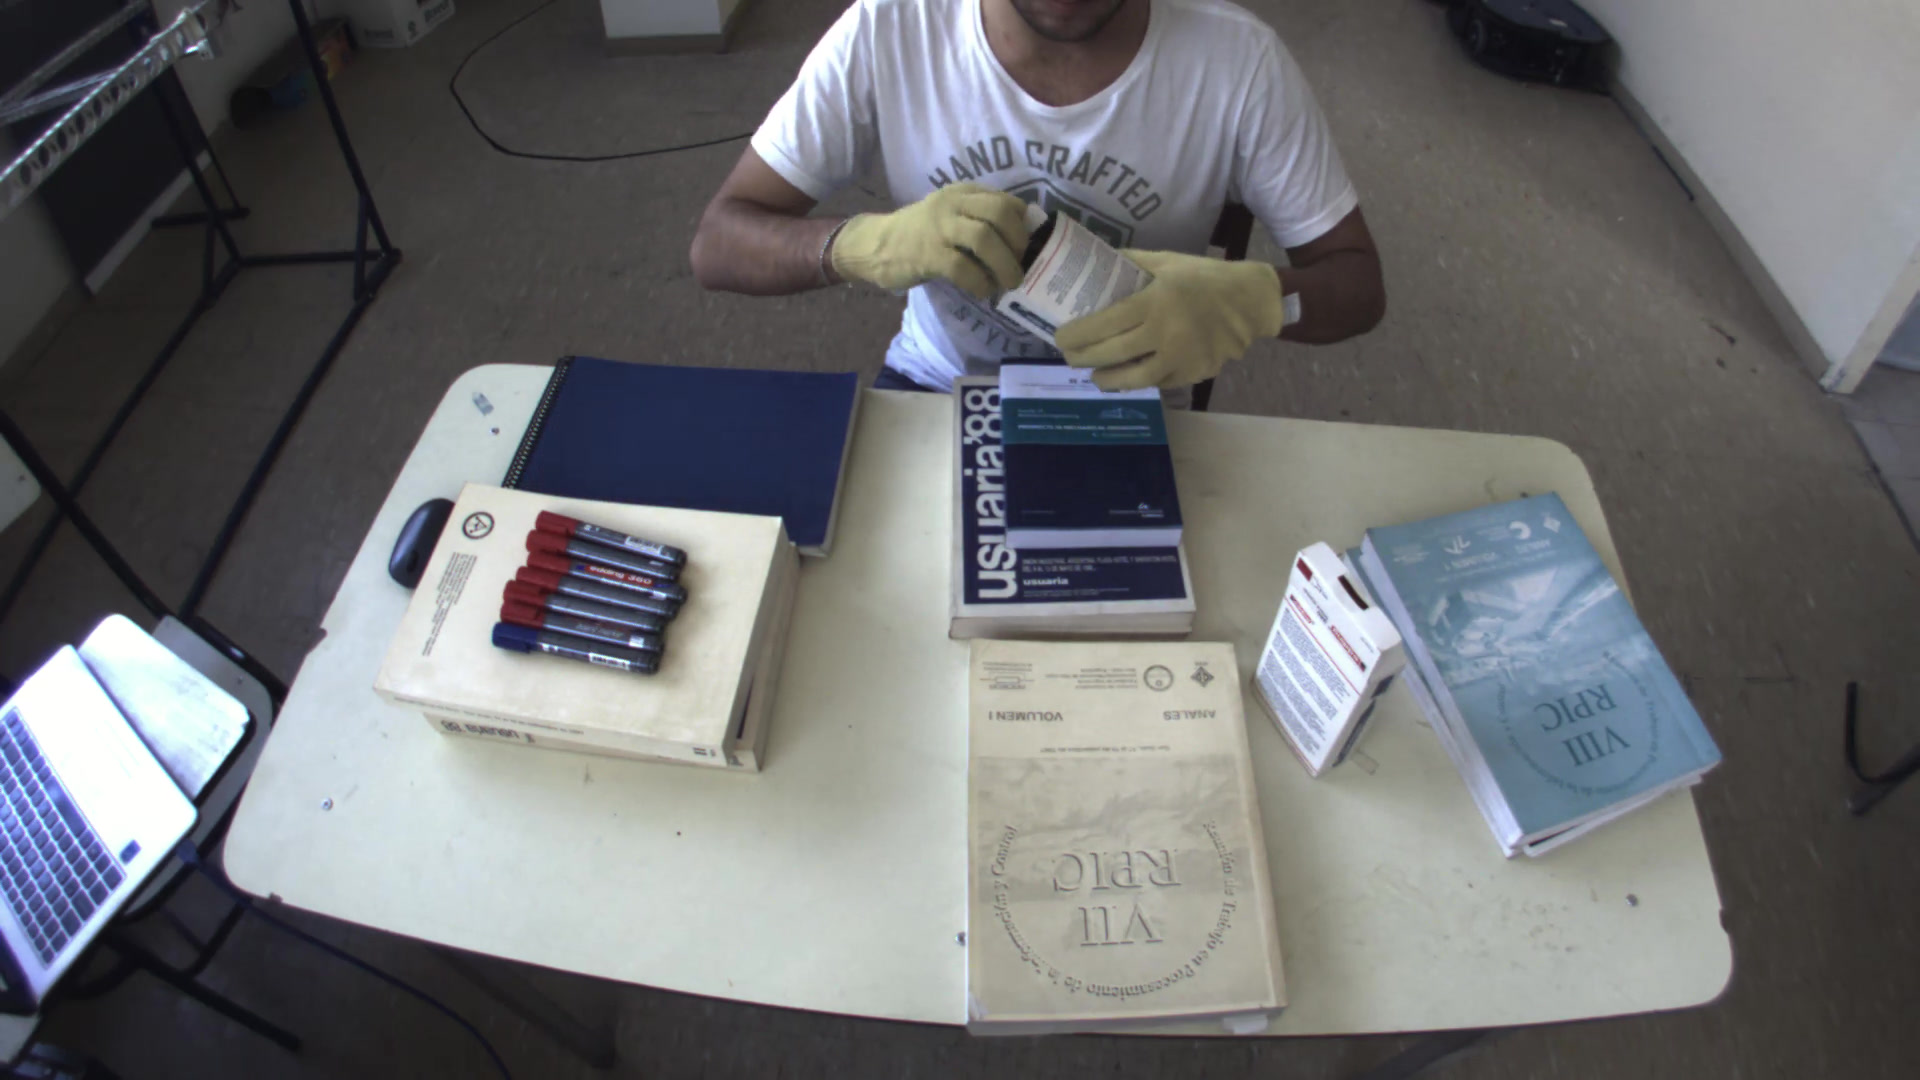hand: (1040, 229, 1299, 397), (823, 167, 1047, 305)
